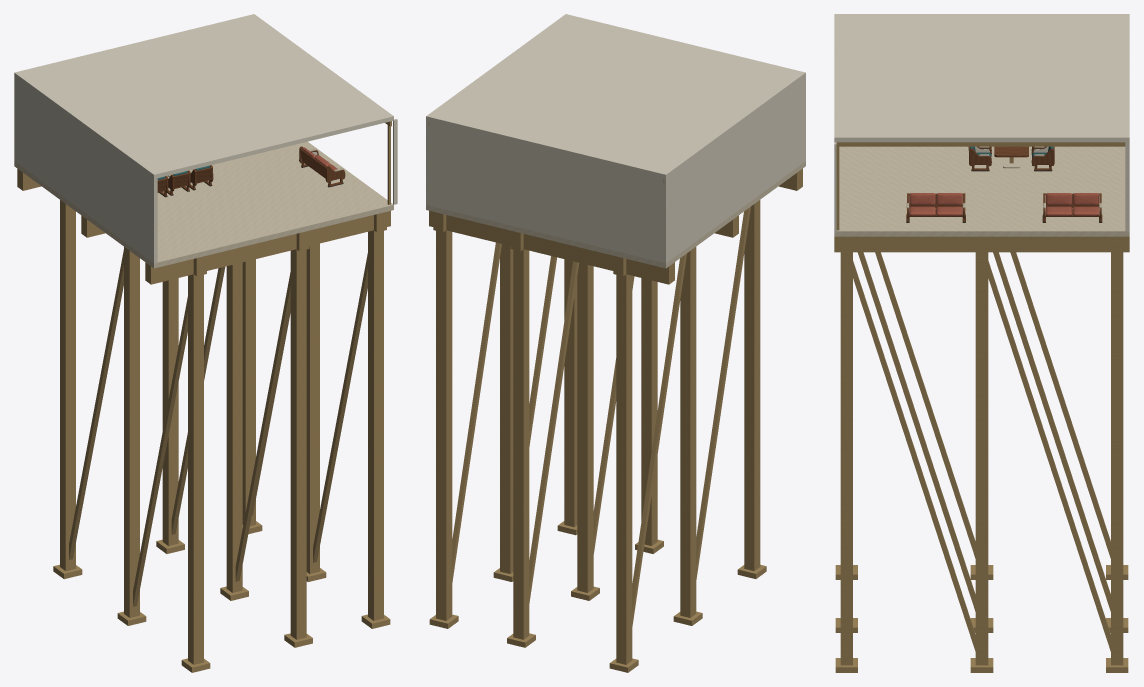
The model's file is D04_SOCIAL_DAYROOM_r001.glb.
3 views of the same model, side by side, from view 1: azimuth 30°, elevation 25°; view 2: azimuth 150°, elevation 25°; view 3: azimuth 270°, elevation 25° (orthographic). The views are drawn at different scales.
Visible parts, largest first — view 1: D04SD_Roof, D04SD_Floor, D04SD_WestWall, D04SD_FoundationPier_5, D04SD_FoundationPier_2, D04SD_FoundationPier_8, D04SD_FoundationPier_1, D04SD_FoundationPier_0, D04SD_FoundationPier_4, D04SD_FoundationPier_7, D04SD_FoundationPier_3, D04SD_FoundationPier_6 (+6 smaller); view 2: D04SD_Roof, D04SD_SouthWall, D04SD_WestWall, D04SD_FoundationPier_0, D04SD_FoundationPier_3, D04SD_FoundationPier_6, D04SD_FoundationPier_1, D04SD_FoundationPier_2, D04SD_FoundationPier_4, D04SD_FoundationPier_7, D04SD_FoundationPier_5, D04SD_CrossTransfer_0 (+8 smaller); view 3: D04SD_Roof, D04SD_Floor, D04SD_FoundationPier_7, D04SD_FoundationPier_6, D04SD_FoundationPier_8, D04SD_LongTransfer_-73.6, D04SD_Diagonal_-73.6_1, D04SD_Diagonal_-73.6_0, D04SD_Diagonal_-77.4_1, D04SD_Diagonal_-77.4_0, D04SD_Diagonal_-83.1_1, D04SD_Diagonal_-83.1_0 (+2 smaller).
Part boxes in pixels (box(x1,y1,x2,y2)): D04SD_Roof: box(14, 14, 393, 178); D04SD_Floor: box(14, 141, 393, 268); D04SD_WestWall: box(14, 77, 157, 263); D04SD_FoundationPier_5: box(290, 249, 306, 639); D04SD_FoundationPier_2: box(188, 274, 203, 664); D04SD_FoundationPier_8: box(368, 230, 383, 620); D04SD_FoundationPier_1: box(124, 247, 139, 617); D04SD_FoundationPier_0: box(60, 200, 75, 570); D04SD_FoundationPier_4: box(226, 262, 242, 592); D04SD_FoundationPier_7: box(306, 243, 319, 573); D04SD_FoundationPier_3: box(162, 278, 178, 545); D04SD_FoundationPier_6: box(242, 259, 255, 526); D04SD_Roof: box(426, 14, 805, 178); D04SD_SouthWall: box(426, 120, 662, 262); D04SD_WestWall: box(662, 77, 805, 263); D04SD_FoundationPier_0: box(616, 274, 632, 664); D04SD_FoundationPier_3: box(513, 249, 529, 639); D04SD_FoundationPier_6: box(436, 230, 452, 620); D04SD_FoundationPier_1: box(680, 247, 696, 617); D04SD_FoundationPier_2: box(744, 200, 760, 570); D04SD_FoundationPier_4: box(577, 263, 593, 592); D04SD_FoundationPier_7: box(500, 244, 513, 573); D04SD_FoundationPier_5: box(641, 278, 657, 545); D04SD_CrossTransfer_0: box(429, 210, 674, 284); D04SD_Roof: box(834, 14, 1129, 142); D04SD_Floor: box(834, 146, 1129, 236); D04SD_FoundationPier_7: box(975, 256, 988, 665); D04SD_FoundationPier_6: box(1111, 256, 1123, 665); D04SD_FoundationPier_8: box(840, 256, 852, 665); D04SD_LongTransfer_-73.6: box(834, 236, 1129, 252); D04SD_Diagonal_-73.6_1: box(853, 261, 975, 651); D04SD_Diagonal_-73.6_0: box(988, 261, 1110, 651); D04SD_Diagonal_-77.4_1: box(857, 252, 975, 611); D04SD_Diagonal_-77.4_0: box(993, 252, 1110, 611); D04SD_Diagonal_-83.1_1: box(875, 252, 975, 558); D04SD_Diagonal_-83.1_0: box(1010, 252, 1110, 558).
Size of the model in its own units: 11.98 by 23.86 by 11.9.
53 materials, 52 textured.
